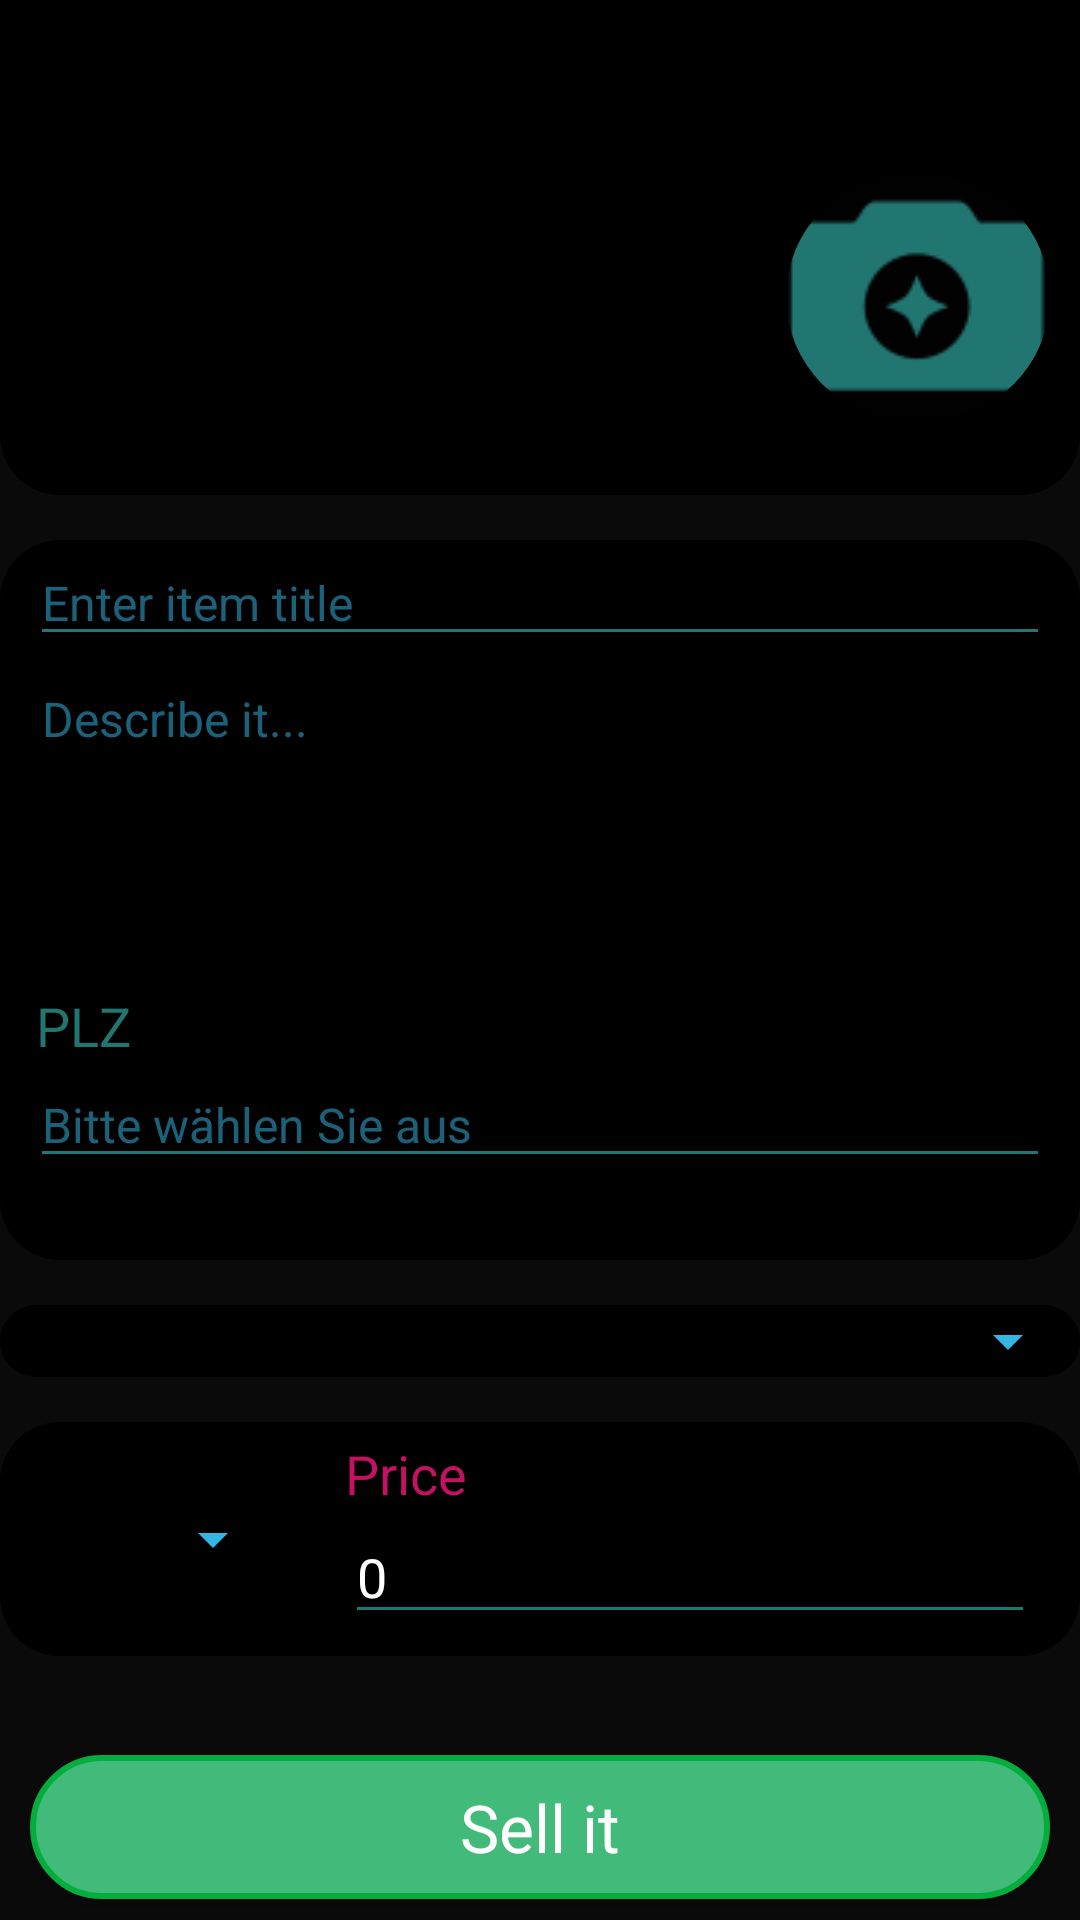

Point at icon controls on the screen. Image size 1080 x 1920, points as [x,y].
camera enhance: [917,296]
